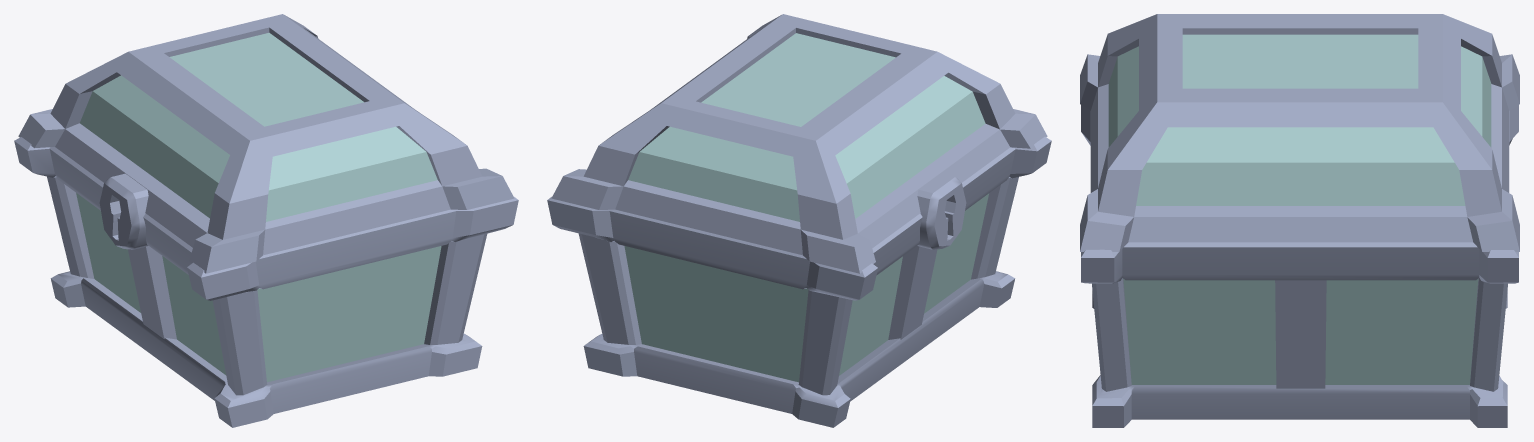
Rendered from closedMagicChest.fbx.
3 renders of one model, left to right at view 1: azimuth 30°, elevation 25°; view 2: azimuth 150°, elevation 25°; view 3: azimuth 270°, elevation 25°, orthographic. The views are drawn at different scales.
Parts seen in each view (by area): view 1: Frame, LidFrame, LidSides, Sides1, Lock; view 2: Frame, LidFrame, LidSides, Sides1, Lock; view 3: LidFrame, Frame, LidSides, Sides1.
Part boxes in pixels (x1,y1,x2,y2): Frame: [14, 137, 518, 427]; LidFrame: [18, 14, 514, 273]; LidSides: [80, 32, 437, 221]; Sides1: [76, 193, 441, 382]; Lock: [99, 173, 148, 249]; Frame: [547, 136, 1051, 427]; LidFrame: [551, 14, 1047, 273]; LidSides: [628, 33, 985, 221]; Sides1: [624, 193, 988, 382]; Lock: [917, 173, 966, 249]; LidFrame: [1080, 14, 1519, 251]; Frame: [1081, 105, 1518, 427]; LidSides: [1108, 34, 1491, 205]; Sides1: [1123, 279, 1478, 384].
Size of the model in its own units: 41.8 by 32.16 by 42.77.
